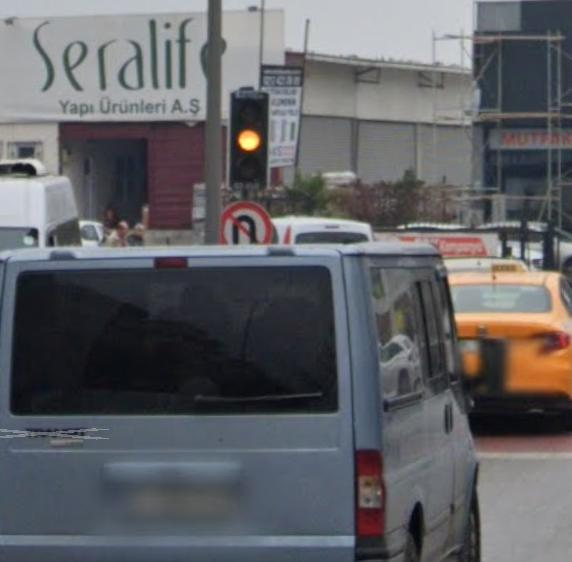yellowlight: (228, 90, 269, 189)
